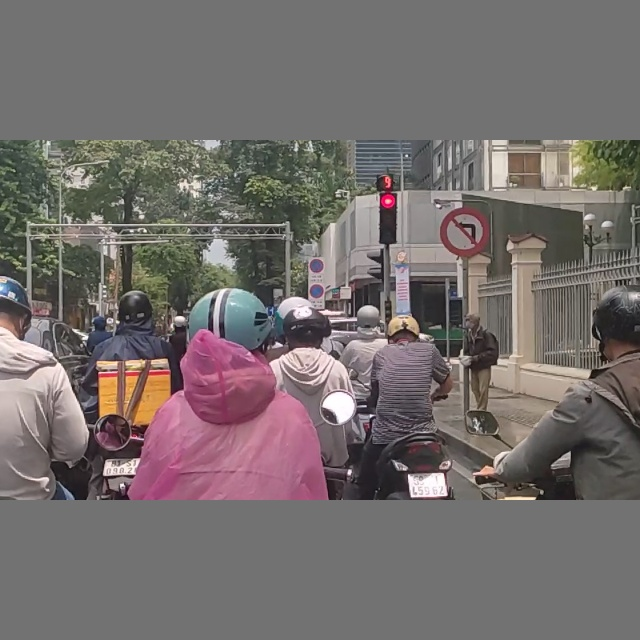P.123a: (438, 207, 491, 257)
P.130: (310, 259, 325, 275)
P.131a: (309, 285, 324, 300)
